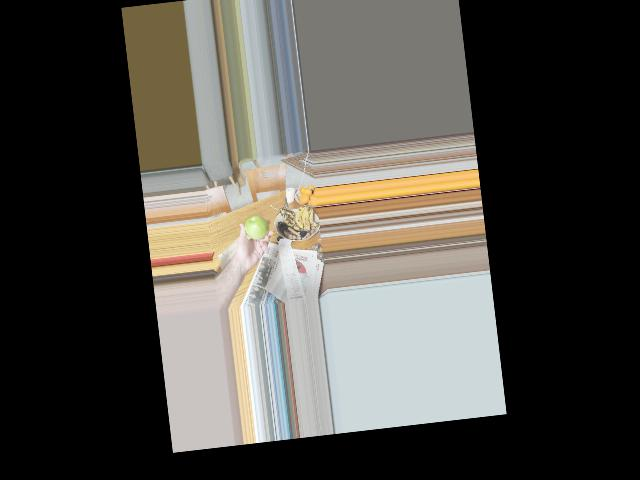apple: (243, 215, 269, 242)
